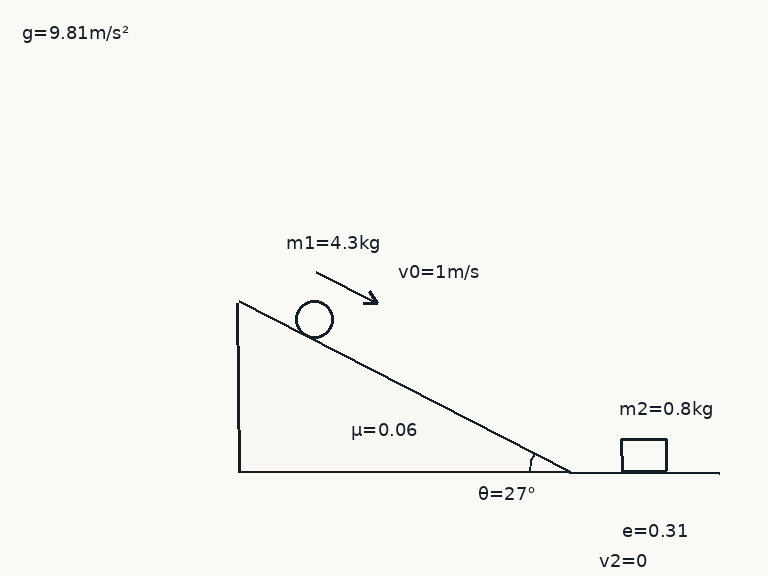ball: (293, 298, 335, 340)
block: (620, 437, 668, 473)
ramp: (237, 300, 572, 473)
